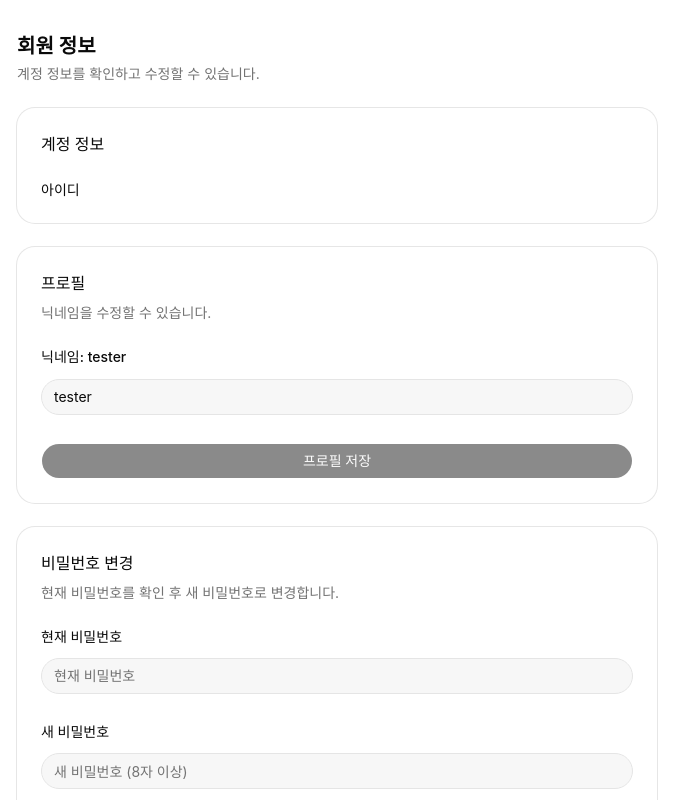
Test case: shows a prominent success state after changing the password
The image size is (675, 800).
Step 1. Type "current-password" into the password field labelled "현재 비밀번호" → (337, 676), box [41,658,633,694]
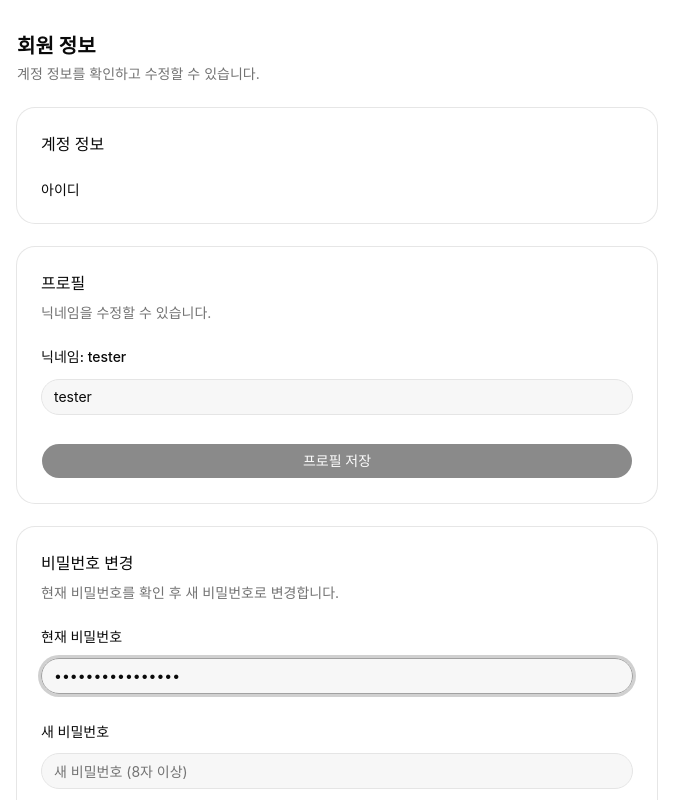
Step 2. Type "new-password" into the password field labelled "새 비밀번호" → (337, 771), box [41,753,633,789]
(page scrolled)
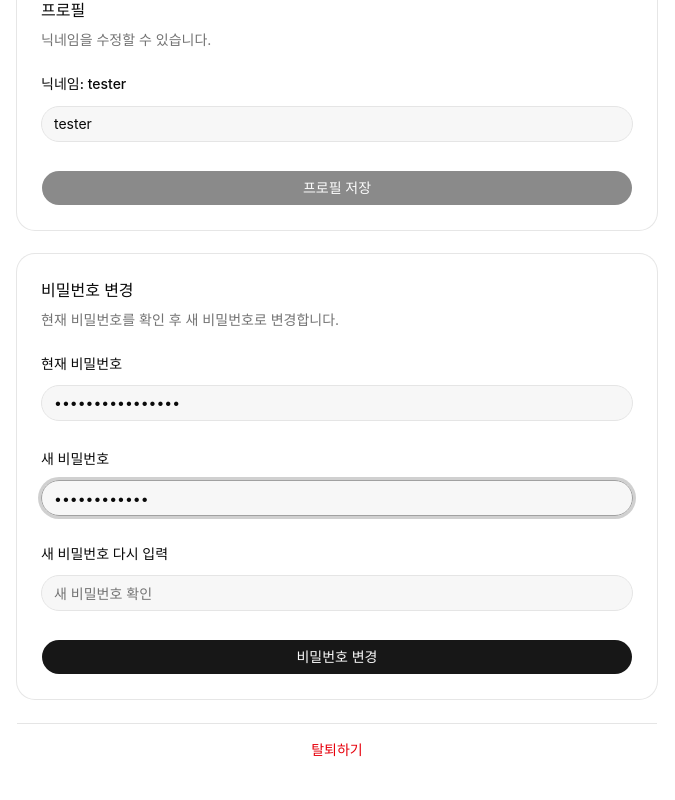
Step 3. Type "new-password" into the password field labelled "새 비밀번호 다시 입력" → (337, 593), box [41,575,633,611]
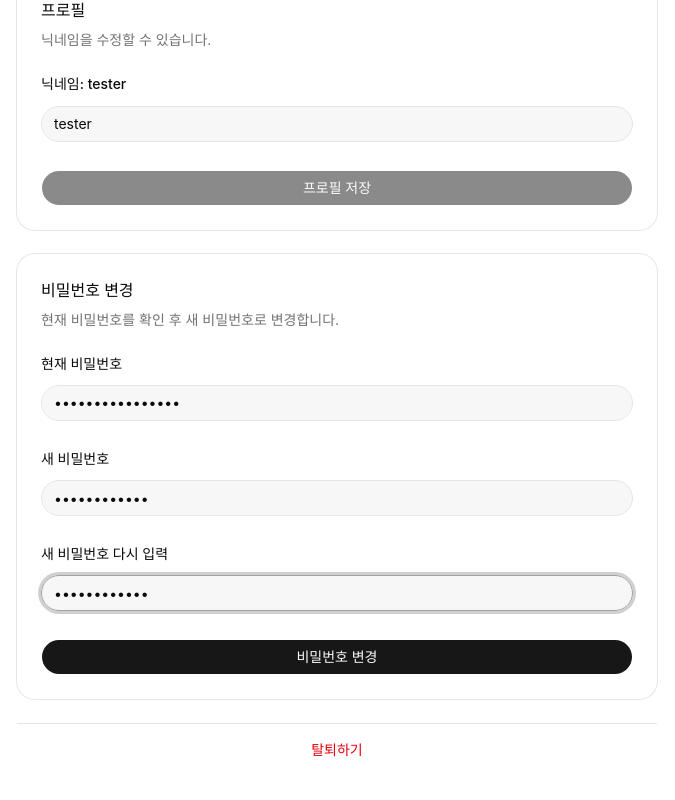
Step 4. Click the button "비밀번호 변경" → click(337, 657), box [41,639,633,675]
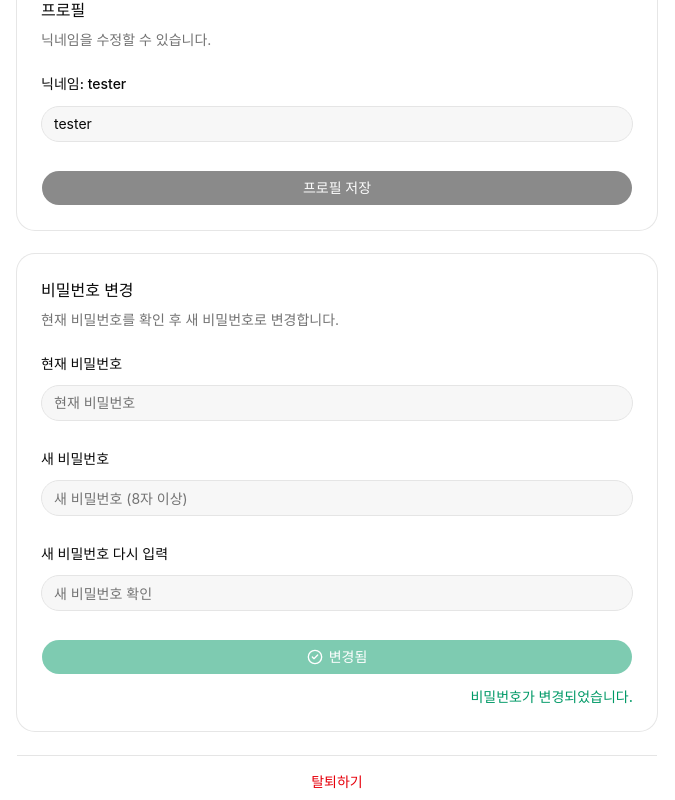
expect the message reads "비밀번호가 변경되었습니다.": met, box [470,688,633,705]
